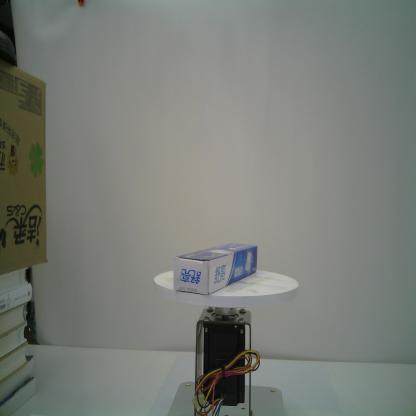Personal Hygiene: (170, 240, 258, 297)
